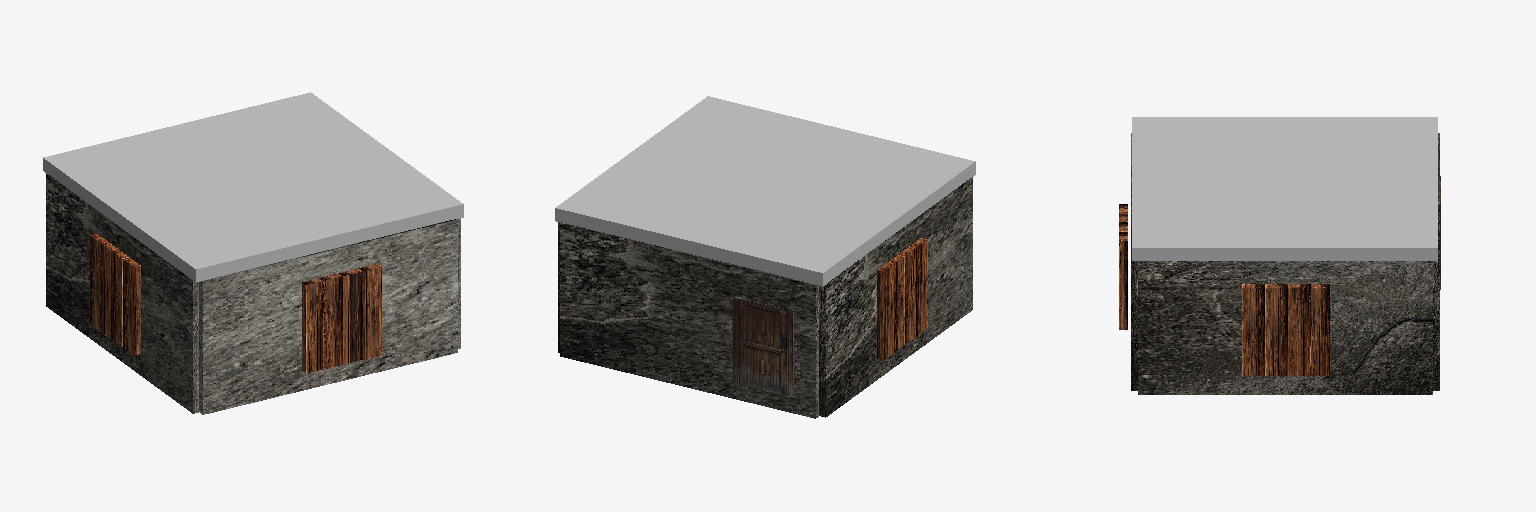
The picture shows the model from 3 angles: view 1: azimuth 30°, elevation 25°; view 2: azimuth 150°, elevation 25°; view 3: azimuth 270°, elevation 25°; orthographic projection.
Parts seen in each view (by area): view 1: Cube.006_Cube.007, Cube.004, Cube.003, Cube.018_Cube.019, Cube.015_Cube.016, Cube.016_Cube.017, Cube.017_Cube.018, Cube.007_Cube.008, Cube.008_Cube.009, Cube.009_Cube.010, Cube.010_Cube.011; view 2: Cube.006_Cube.007, Cube.001, Cube.003, Cube_Cube.006, Cube.010_Cube.011, Cube.007_Cube.008, Cube.008_Cube.009, Cube.009_Cube.010; view 3: Cube.006_Cube.007, Cube.005, Cube.014_Cube.015, Cube.013_Cube.014, Cube.012_Cube.013, Cube.011_Cube.012, Cube.001, Cube.004, Cube.015_Cube.016.
Boxes of the visible parts, <box> form: Cube.006_Cube.007: <box>43,92,463,282</box>; Cube.004: <box>199,219,457,414</box>; Cube.003: <box>46,173,198,413</box>; Cube.018_Cube.019: <box>302,278,325,373</box>; Cube.015_Cube.016: <box>359,264,381,359</box>; Cube.016_Cube.017: <box>339,269,361,364</box>; Cube.017_Cube.018: <box>320,273,342,368</box>; Cube.007_Cube.008: <box>123,257,140,354</box>; Cube.008_Cube.009: <box>111,249,128,346</box>; Cube.009_Cube.010: <box>100,241,117,337</box>; Cube.010_Cube.011: <box>90,234,106,330</box>; Cube.006_Cube.007: <box>555,96,975,286</box>; Cube.001: <box>560,222,818,418</box>; Cube.003: <box>819,177,972,417</box>; Cube_Cube.006: <box>733,297,793,396</box>; Cube.010_Cube.011: <box>877,262,894,359</box>; Cube.007_Cube.008: <box>910,238,927,335</box>; Cube.008_Cube.009: <box>898,246,915,343</box>; Cube.009_Cube.010: <box>887,255,904,351</box>; Cube.006_Cube.007: <box>1132,117,1437,260</box>; Cube.005: <box>1138,261,1432,394</box>; Cube.014_Cube.015: <box>1242,284,1264,375</box>; Cube.013_Cube.014: <box>1265,284,1287,375</box>; Cube.012_Cube.013: <box>1288,284,1310,375</box>; Cube.011_Cube.012: <box>1308,284,1329,375</box>; Cube.001: <box>1433,133,1439,390</box>; Cube.004: <box>1131,133,1137,390</box>; Cube.015_Cube.016: <box>1119,232,1127,329</box>.
Bounding box in the file's own units: 22.07 × 10.97 × 21.81.
Materials: 6 (3 with a texture image).